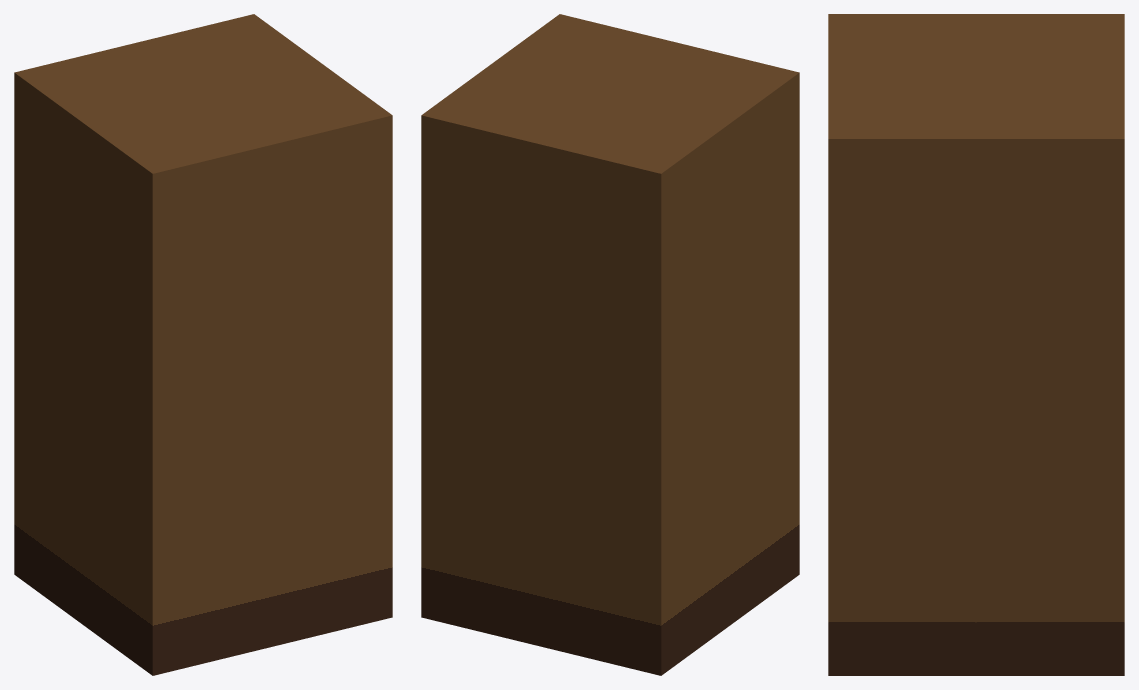
File: single-high.obj
3 views of the same model, side by side, from view 1: azimuth 30°, elevation 25°; view 2: azimuth 150°, elevation 25°; view 3: azimuth 270°, elevation 25° (orthographic). The views are drawn at different scales.
Parts seen in each view (by area): view 1: block; view 2: block; view 3: block.
Boxes of the visible parts, x1,y1,x2,y2 form: block: (14,14,392,675); block: (421,14,799,675); block: (828,14,1124,675).
Bounding box in the file's own units: 2 × 4 × 2.
Materials: 1 (1 with a texture image).
